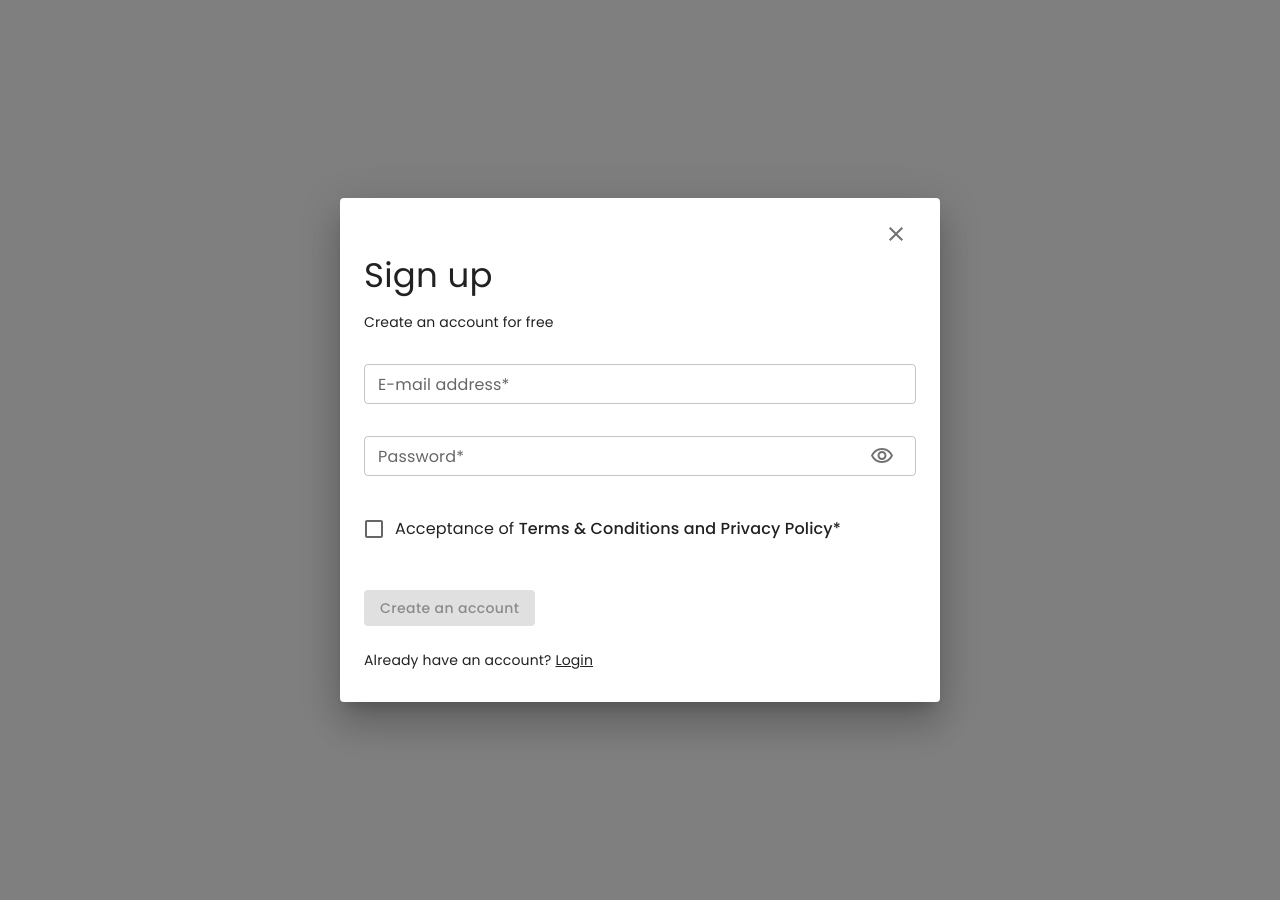
Test: sign in button is enabled if valid credentials are provided and Terms & Conditions checkbox is checked
The width and height of the screenshot is (1280, 900).
Step 1. Type "valid@email.com" into the field labelled "E-mail address*" → [640, 384], box [364,364,916,404]
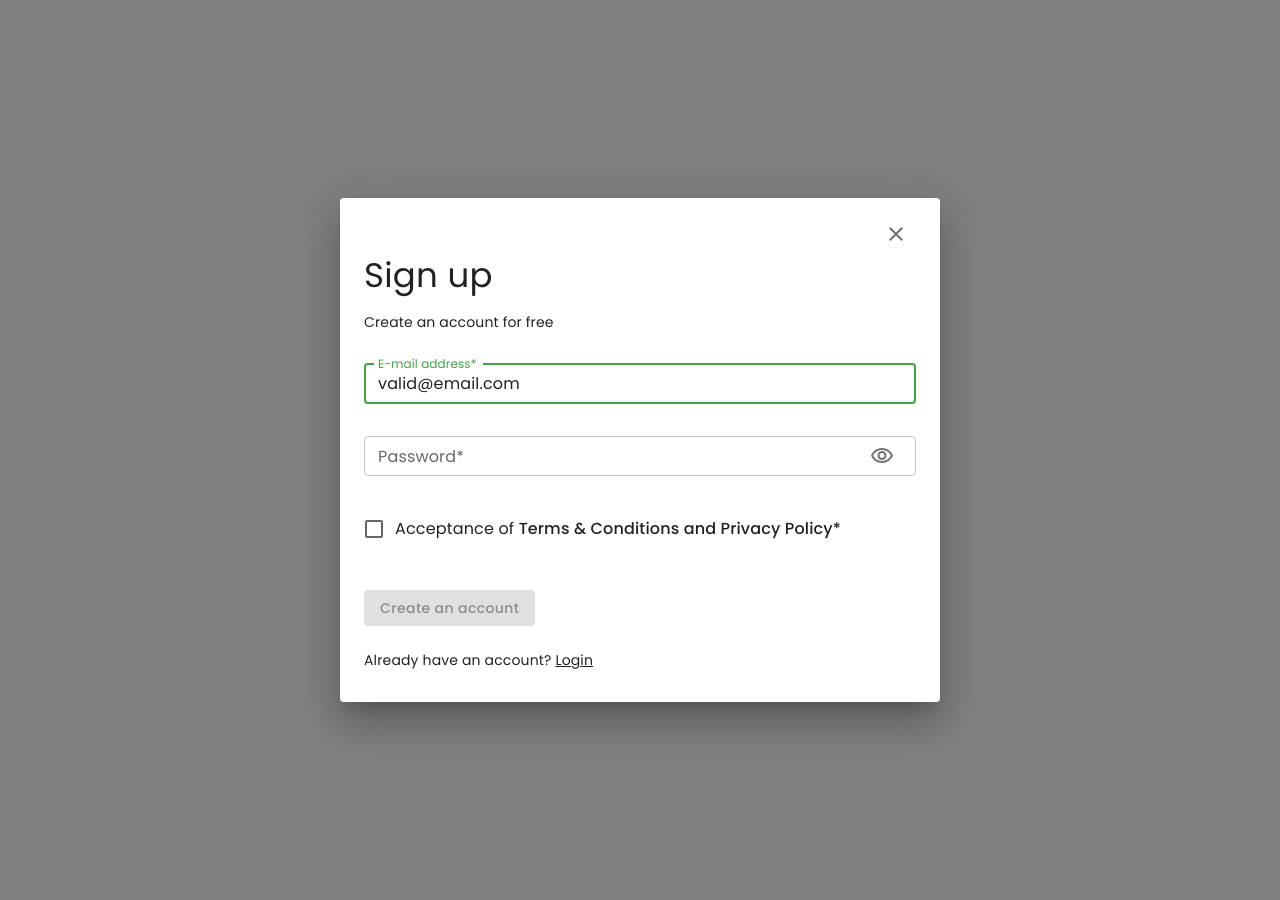
Step 2. Type "some-password" into the password field labelled "Password*" → [609, 456], box [364,436,854,476]
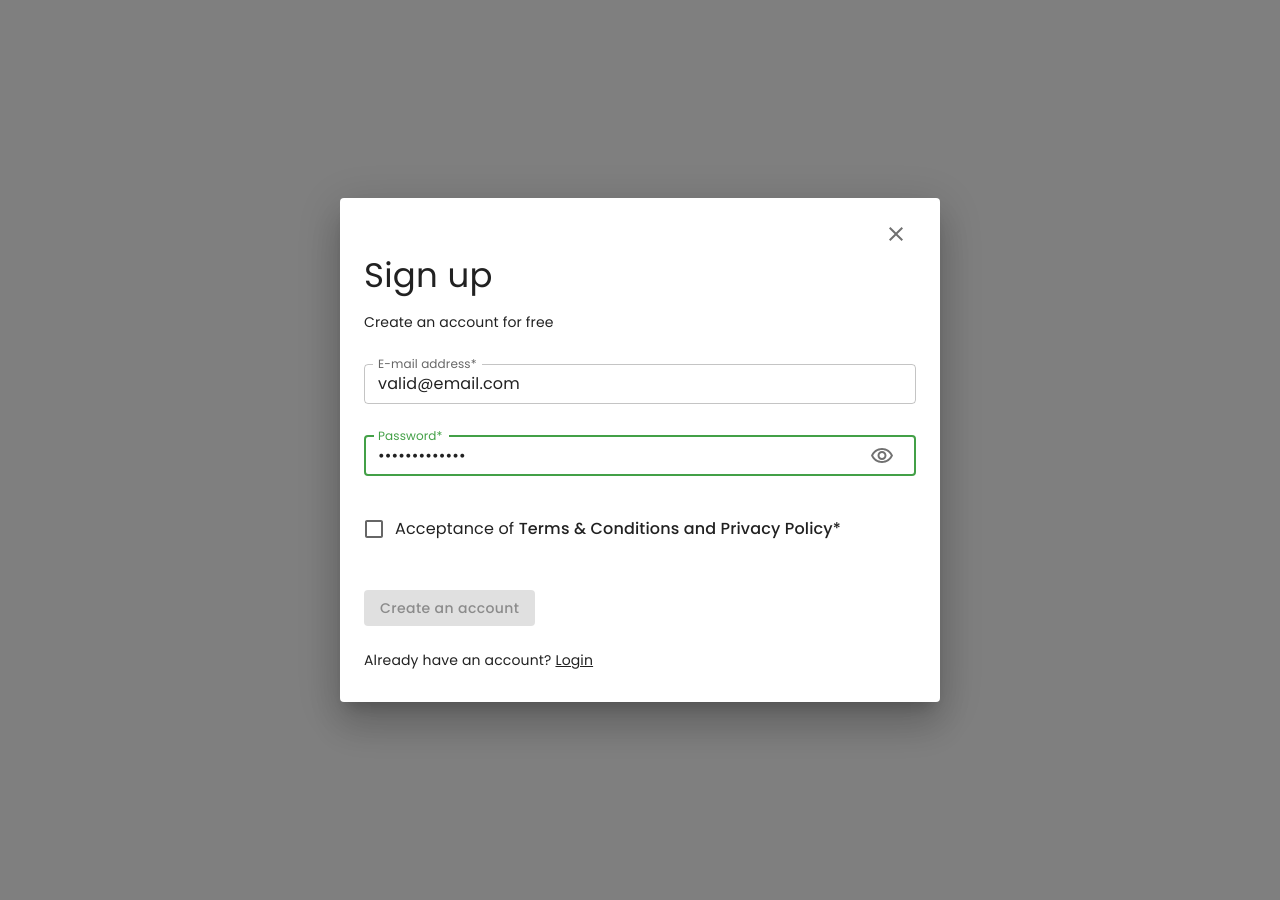
Step 3. Click the checkbox labelled "Acceptance of Terms & Conditions and Privacy Policy*" → [602, 529], box [362,517,841,541]
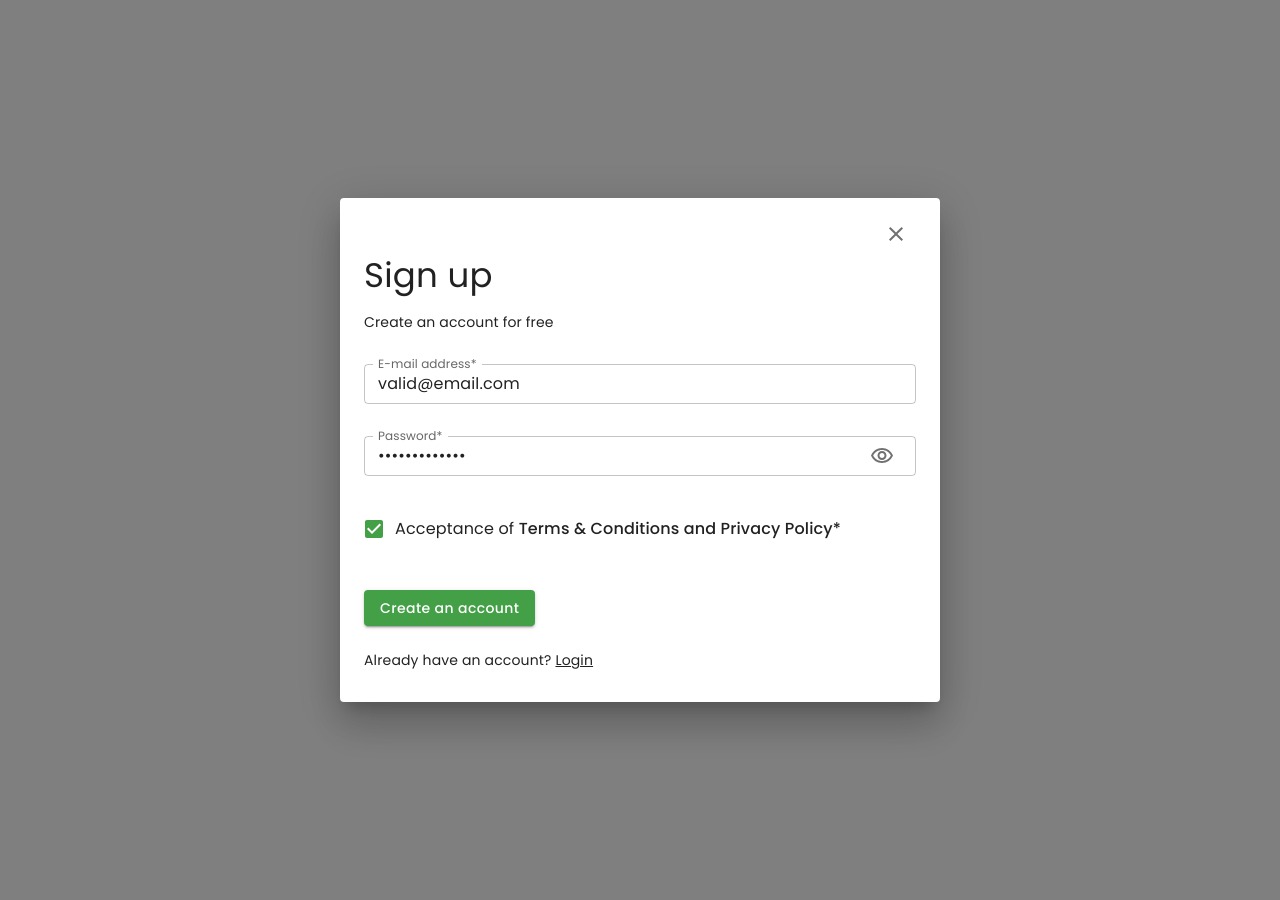
Expected: the button "Create an account" is enabled, [364,590,535,626]
